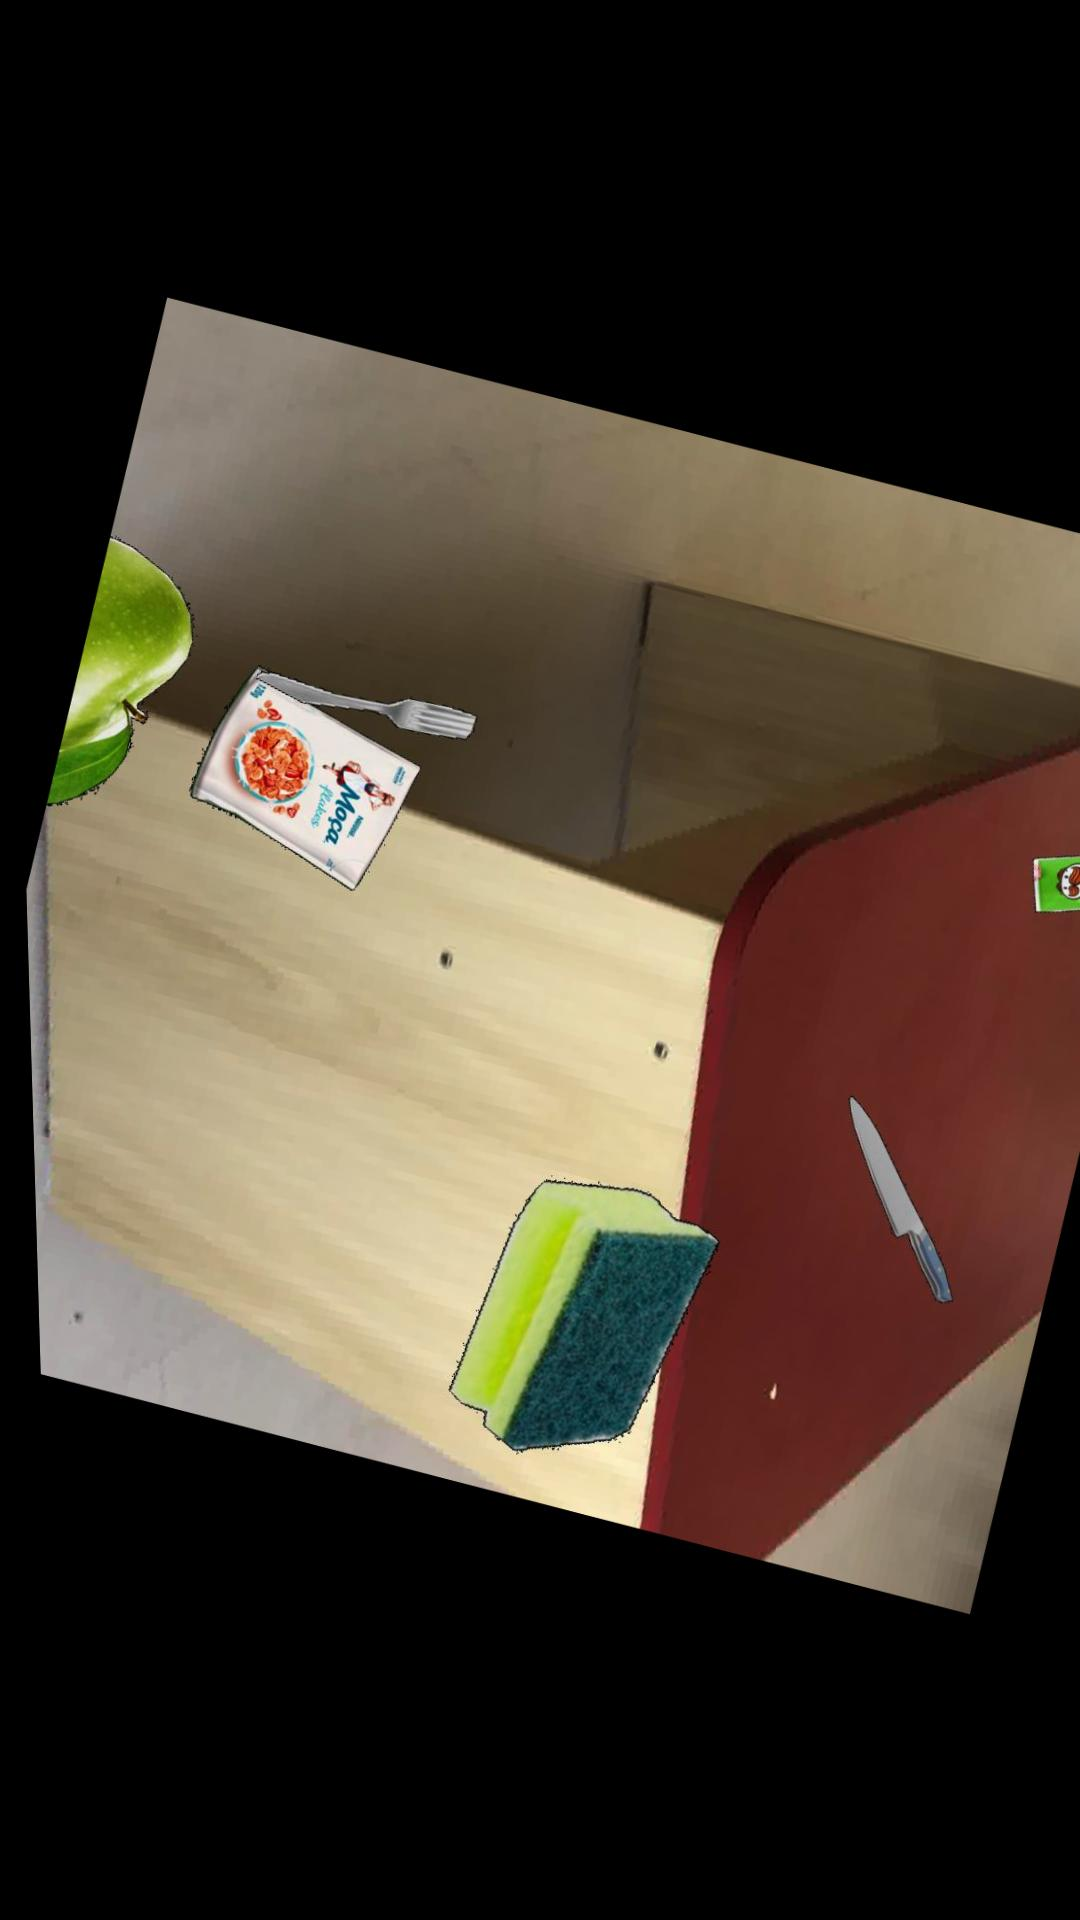corn flakes: (185, 667, 417, 893)
fork: (252, 673, 473, 742)
green apple: (41, 539, 189, 808)
knife: (841, 1098, 944, 1307)
pringles: (1027, 858, 1080, 916)
sponge: (440, 1182, 712, 1455)
